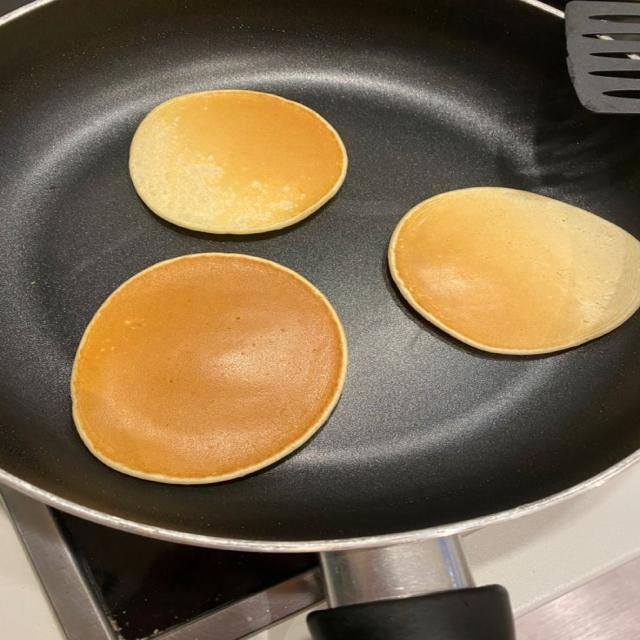pancake: (72, 254, 346, 483), (389, 188, 639, 354), (130, 91, 346, 233)
